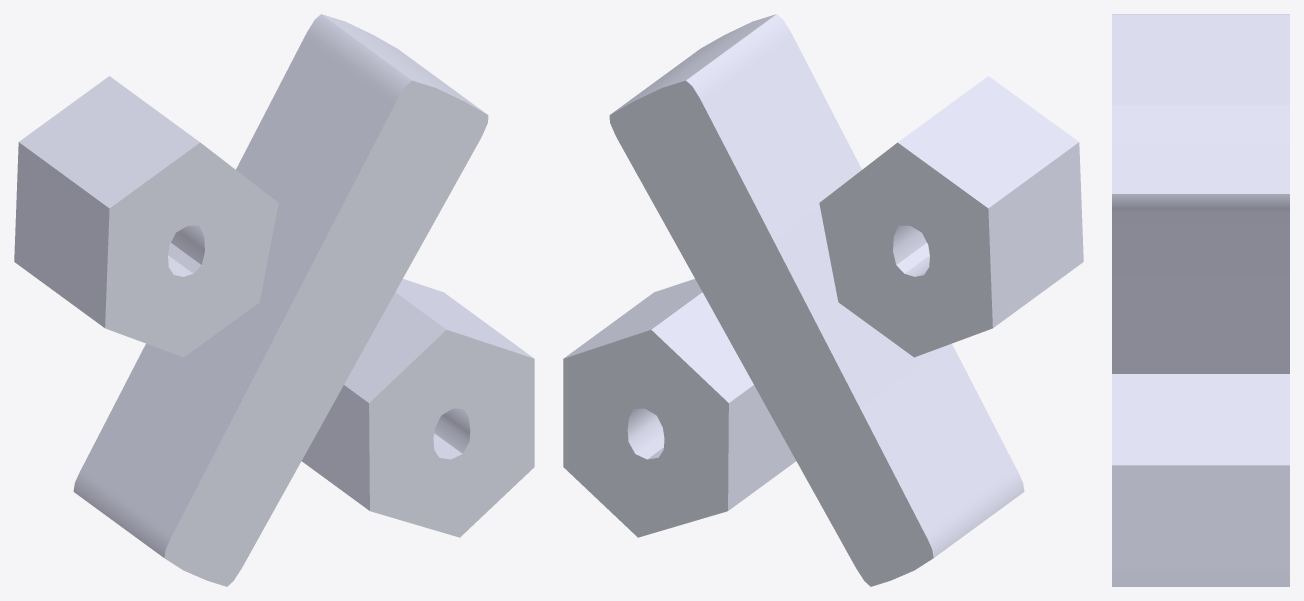
3 views of the same model, side by side, from view 1: azimuth 30°, elevation 25°; view 2: azimuth 150°, elevation 25°; view 3: azimuth 270°, elevation 25° (orthographic). The views are drawn at different scales.
Parts seen in each view (by area): view 1: symbol%_Zyzol_Grey; view 2: symbol%_Zyzol_Grey; view 3: symbol%_Zyzol_Grey.
Boxes of the visible parts, box(x1,y1,x2,y2) form: symbol%_Zyzol_Grey: box(14, 14, 534, 586); symbol%_Zyzol_Grey: box(563, 14, 1083, 586); symbol%_Zyzol_Grey: box(1112, 14, 1289, 586).
Size of what is drawn, in the model's own units: 0.1228 by 0.1281 by 0.045.
Materials: 2 (2 with a texture image).
